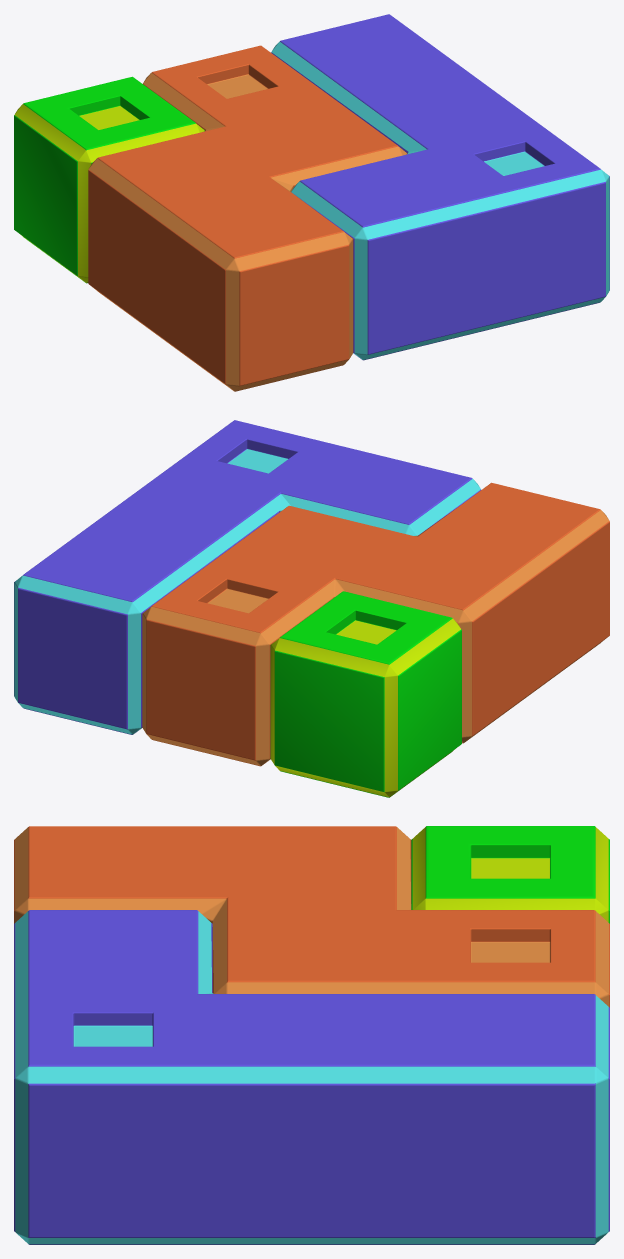
File: puzzle.fbx
3 renders of one model, top to bottom at view 1: azimuth 30°, elevation 25°; view 2: azimuth 150°, elevation 25°; view 3: azimuth 270°, elevation 25°, orthographic. The views are drawn at different scales.
Parts seen in each view (by area): view 1: S, L, C; view 2: S, L, C; view 3: L, S, C.
Part boxes in pixels (x1,y1,x2,y2): S: (88, 45, 407, 391); L: (271, 14, 609, 360); C: (14, 76, 204, 283); S: (142, 482, 609, 766); L: (14, 420, 480, 734); C: (270, 591, 461, 797); L: (14, 910, 609, 1244); S: (14, 826, 609, 1007); C: (411, 826, 609, 923).
Bounding box in the file's own units: 6 × 2 × 6.
